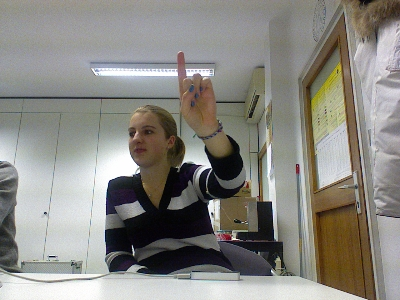食指: (176, 49, 218, 132)
